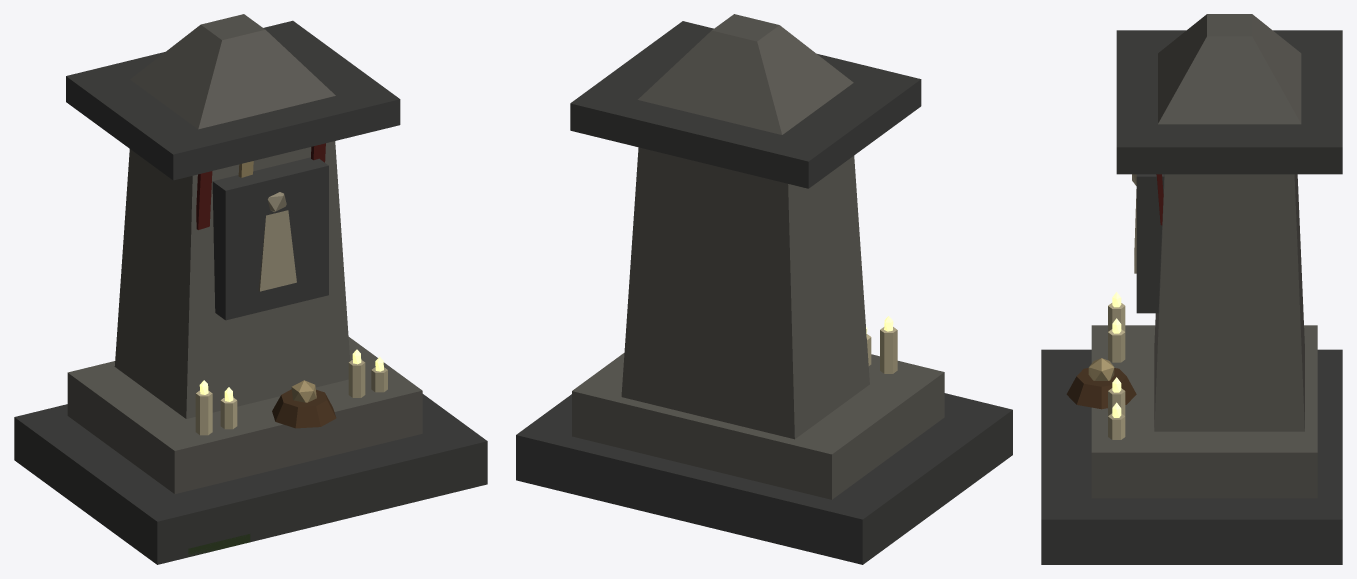
The model's file is shrine.glb.
3 renders of one model, left to right at view 1: azimuth 30°, elevation 25°; view 2: azimuth 150°, elevation 25°; view 3: azimuth 270°, elevation 25°, orthographic. The views are drawn at different scales.
Visible parts, largest first — view 1: Shrine; view 2: Shrine; view 3: Shrine.
Part boxes in pixels (box(x1,y1,x2,y2)): Shrine: box(14, 14, 487, 564); Shrine: box(516, 14, 1012, 564); Shrine: box(1041, 14, 1342, 564).
Size of the model in its own units: 1.6 by 2 by 1.2.
